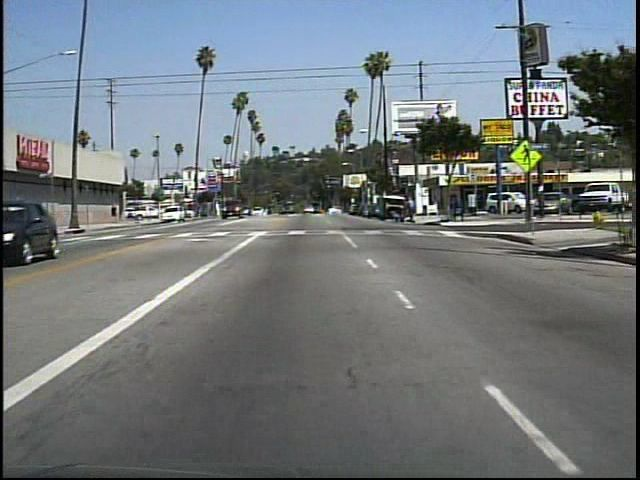person: (404, 194, 419, 225), (388, 209, 405, 228), (111, 201, 120, 225)
